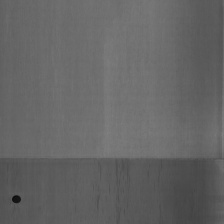welding_line: (2, 152, 224, 166), (10, 191, 24, 205)
